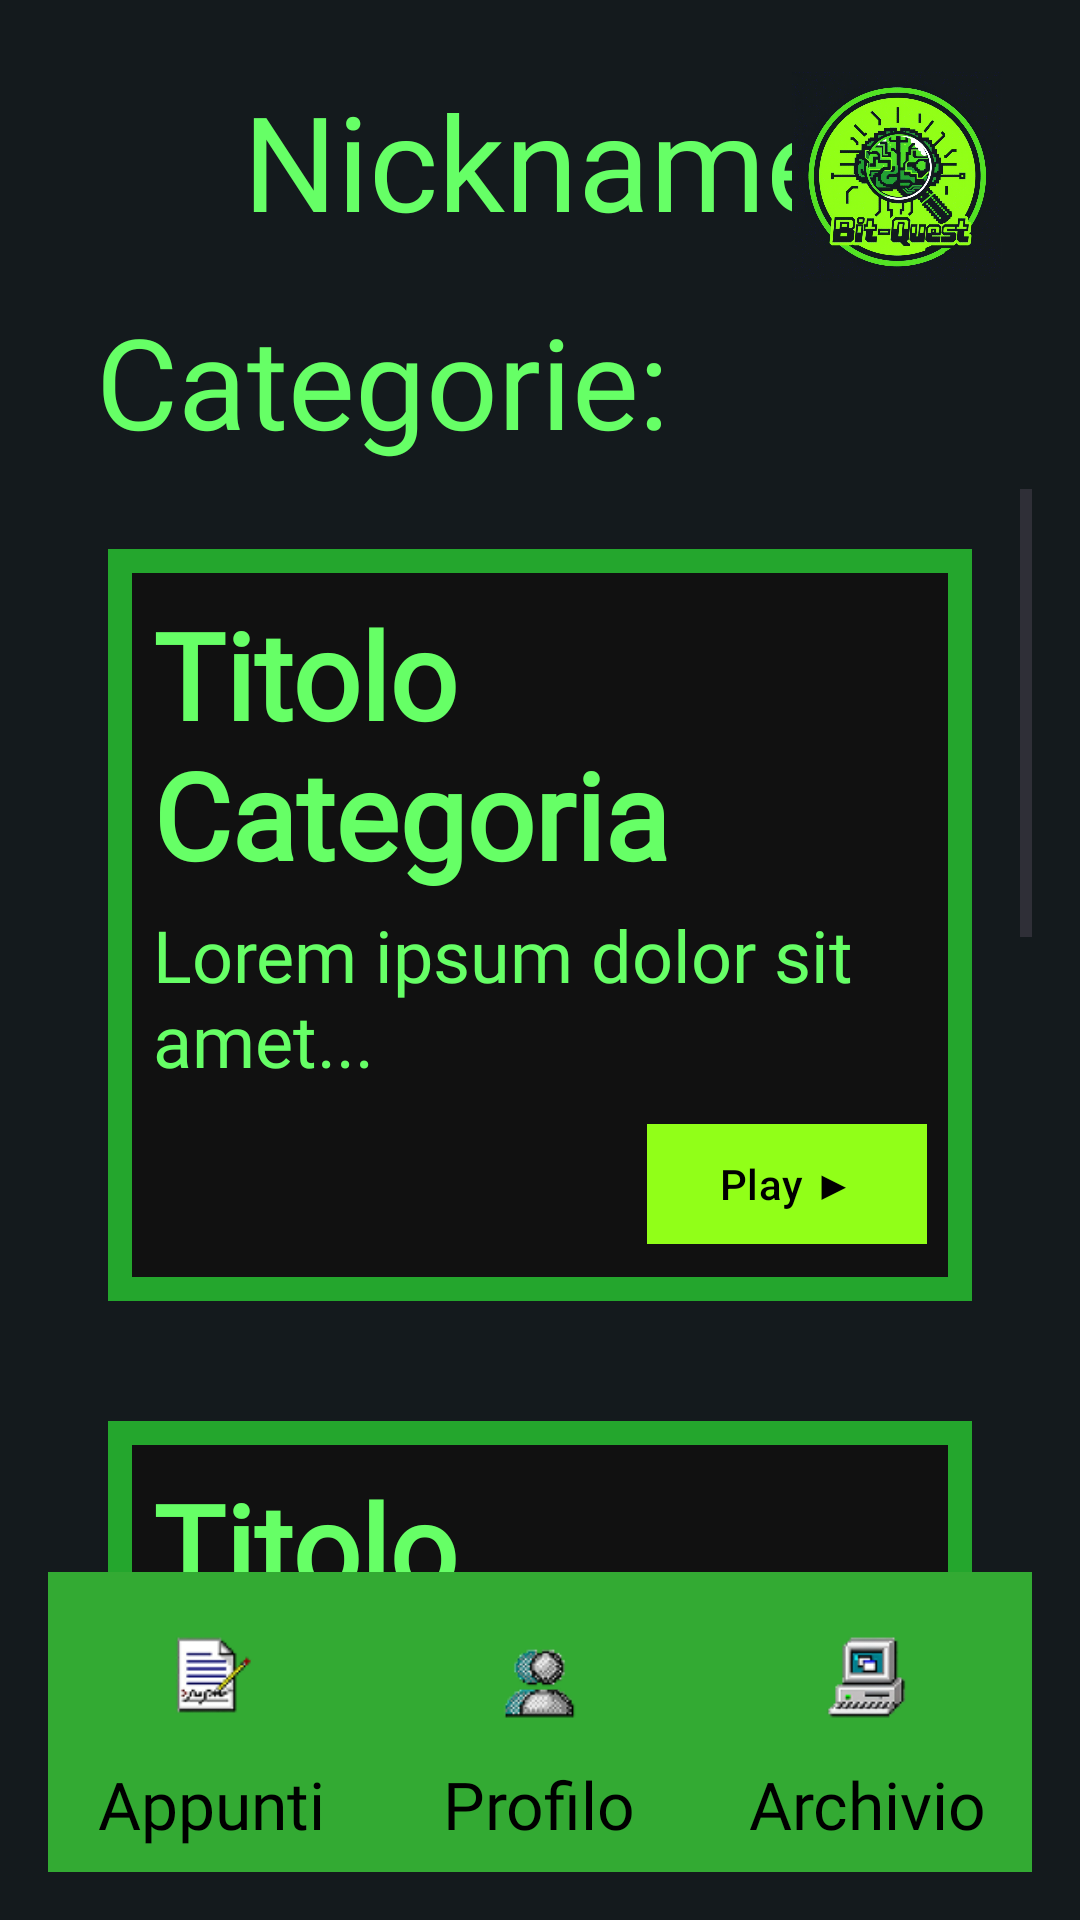

Where icons sit on this 1080w x 1920h app screen, as (x1=x1, y1=y1, x2=x2, y2=y2):
notes: (x1=177, y1=1637, x2=251, y2=1713)
profile: (x1=505, y1=1649, x2=574, y2=1718)
